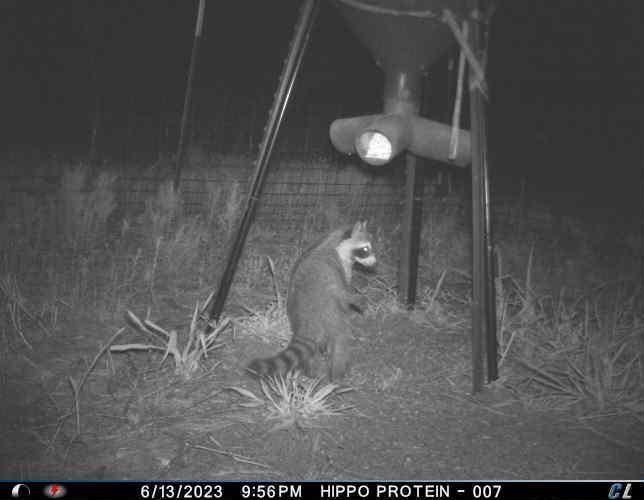Raccoon: (248, 215, 381, 383)
